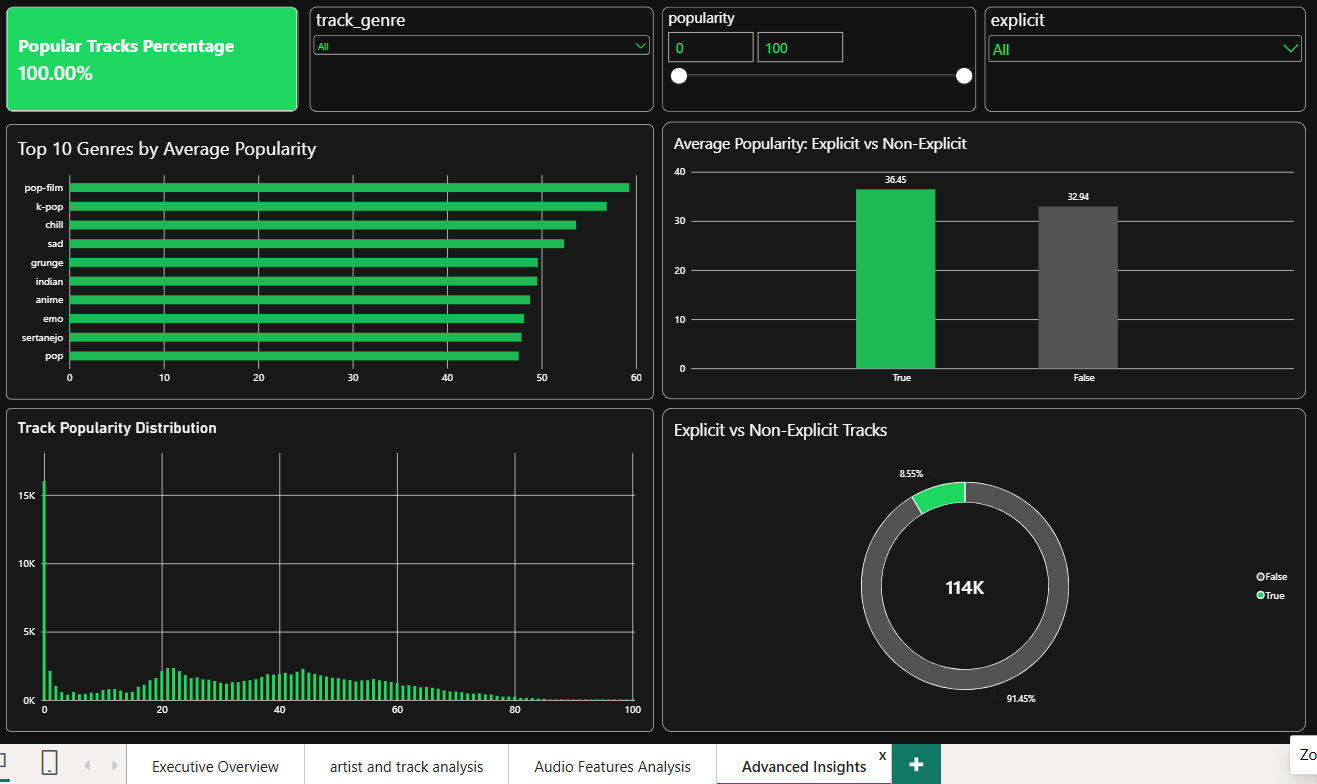

The page's visual inventory and layout, read from the dashboard file:
{"tool":"powerbi","page":{"name":"Advanced Insights","canvas":[1920,1080],"ordinal":3},"visuals":[{"type":"donutChart","title":"Explicit vs Non-Explicit Tracks","fields":{"Category":["FactTracks.explicit"],"Y":["CountNonNull(FactTracks.track_id)"]},"box":[971.8,593.6,932,468.7],"z":0},{"type":"clusteredColumnChart","title":"Track Popularity Distribution","fields":{"Category":["FactTracks.popularity"],"Y":["CountNonNull(FactTracks.track_id)"]},"box":[21.7,593.6,937.4,468.7],"z":1},{"type":"cardVisual","fields":{"Data":["FactTracks.Popular Tracks %"]},"box":[21.7,12.7,423.5,152],"z":2},{"type":"clusteredBarChart","title":"Top 10 Genres by Average Popularity","fields":{"Category":["FactTracks.track_genre"],"Y":["Avg(FactTracks.popularity)"]},"box":[21.7,182.8,937.4,398.1],"z":3},{"type":"clusteredColumnChart","title":"Average Popularity: Explicit vs Non-Explicit","fields":{"Category":["FactTracks.explicit"],"Y":["Avg(FactTracks.popularity)"]},"box":[971.8,179.2,932,401.7],"z":4},{"type":"slicer","fields":{"Values":["FactTracks.track_genre"]},"box":[461.5,12.7,497.7,152],"z":5},{"type":"slicer","fields":{"Values":["FactTracks.explicit"]},"box":[1438.7,12.7,465.1,152],"z":6},{"type":"slicer","fields":{"Values":["FactTracks.popularity"]},"box":[971.8,12.7,454.2,152],"z":7}]}

Visuals, with their boxes on the page's 1920x1080 design canvas (x1, y1, x2, y2). These are canvas units, not pixel positions in the 1317x784 screenshot, which may show the page scaled, cropped or inside an application window:
"Explicit vs Non-Explicit Tracks" donutChart: (left=972, top=594, right=1904, bottom=1062)
"Track Popularity Distribution" clusteredColumnChart: (left=22, top=594, right=959, bottom=1062)
cardVisual - FactTracks.Popular Tracks %: (left=22, top=13, right=445, bottom=165)
"Top 10 Genres by Average Popularity" clusteredBarChart: (left=22, top=183, right=959, bottom=581)
"Average Popularity: Explicit vs Non-Explicit" clusteredColumnChart: (left=972, top=179, right=1904, bottom=581)
slicer - FactTracks.track_genre: (left=462, top=13, right=959, bottom=165)
slicer - FactTracks.explicit: (left=1439, top=13, right=1904, bottom=165)
slicer - FactTracks.popularity: (left=972, top=13, right=1426, bottom=165)
